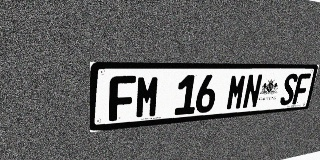1: (174, 75, 199, 115)
6: (195, 75, 218, 113)
F: (109, 76, 136, 121), (292, 73, 311, 104)
M: (135, 75, 161, 119), (225, 74, 247, 111)
N: (242, 74, 263, 109)
S: (279, 73, 299, 106)
